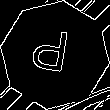P_S: (33, 27, 77, 83)
